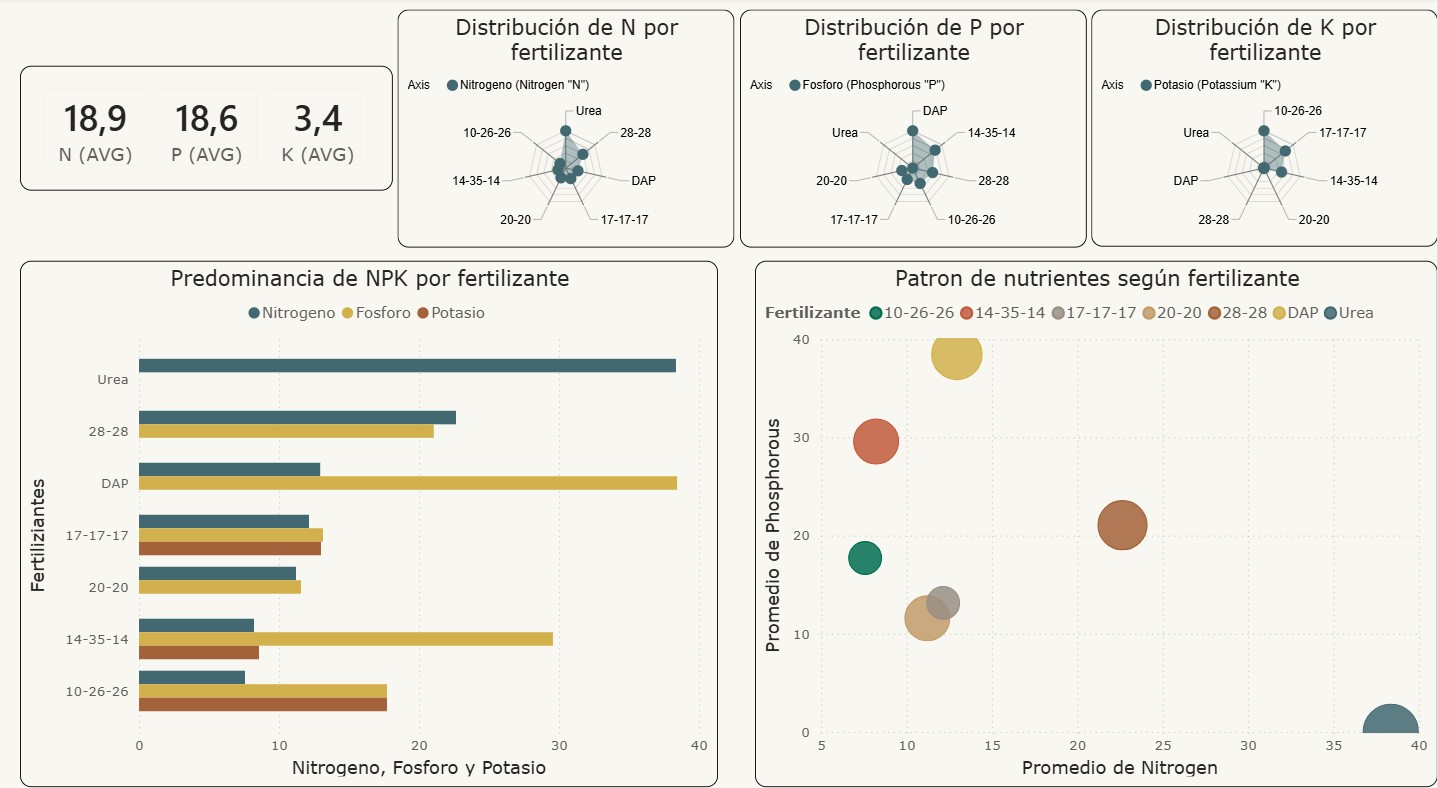

Layout of this report page (visuals, bound fields, positions):
{"tool":"powerbi","page":{"name":"Análisis de Nutrientes (NPK)","canvas":[1280,720],"ordinal":1},"visuals":[{"type":"clusteredBarChart","title":"Predominancia de NPK por fertilizante","fields":{"Category":["DimFertilizer.Fertilizer_Name"],"Y":["FactRecommendation.Prom_N","FactRecommendation.Prom_P","FactRecommendation.Prom_K"]},"box":[18.4,235,621.8,468.8],"z":0},{"type":"scatterChart","title":"Patron de nutrientes según fertilizante","fields":{"X":["Avg(FactRecommendation.Nitrogen)"],"Size":["CountNonNull(FactRecommendation.Potassium)"],"Series":["DimFertilizer.Fertilizer_Name"],"Y":["Avg(FactRecommendation.Phosphorous)"]},"box":[671.9,235,608.3,468.8],"z":1000},{"type":"cardVisual","fields":{"Data":["FactRecommendation.Prom_N","FactRecommendation.Prom_P","FactRecommendation.Prom_K"]},"box":[18.1,61.5,331.8,111],"z":2000},{"type":"RadarChart1446119667547","title":"Distribución de N por fertilizante","fields":{"Y":["FactRecommendation.Prom_N"],"Category":["DimFertilizer.Fertilizer_Name"]},"box":[353.7,11,299.9,211.7],"z":3000},{"type":"RadarChart1446119667547","title":"Distribución de P por fertilizante","fields":{"Category":["DimFertilizer.Fertilizer_Name"],"Y":["FactRecommendation.Prom_P"]},"box":[658.5,11,308.4,211.7],"z":4000},{"type":"RadarChart1446119667547","title":"Distribución de K por fertilizante","fields":{"Category":["DimFertilizer.Fertilizer_Name"],"Y":["FactRecommendation.Prom_K"]},"box":[971.5,11,308.7,211.3],"z":5000}]}

Visuals, with their boxes in screenshot pixels (x1, y1, x2, y2), scaled from the page's 1280x720 canvas onto the 1438x788 screenshot:
"Predominancia de NPK por fertilizante" clusteredBarChart: {"left": 21, "top": 257, "right": 719, "bottom": 770}
"Patron de nutrientes según fertilizante" scatterChart: {"left": 755, "top": 257, "right": 1437, "bottom": 770}
cardVisual - FactRecommendation.Prom_N x FactRecommendation.Prom_P: {"left": 20, "top": 67, "right": 393, "bottom": 189}
"Distribución de N por fertilizante" RadarChart1446119667547: {"left": 397, "top": 12, "right": 734, "bottom": 244}
"Distribución de P por fertilizante" RadarChart1446119667547: {"left": 740, "top": 12, "right": 1086, "bottom": 244}
"Distribución de K por fertilizante" RadarChart1446119667547: {"left": 1091, "top": 12, "right": 1437, "bottom": 243}
